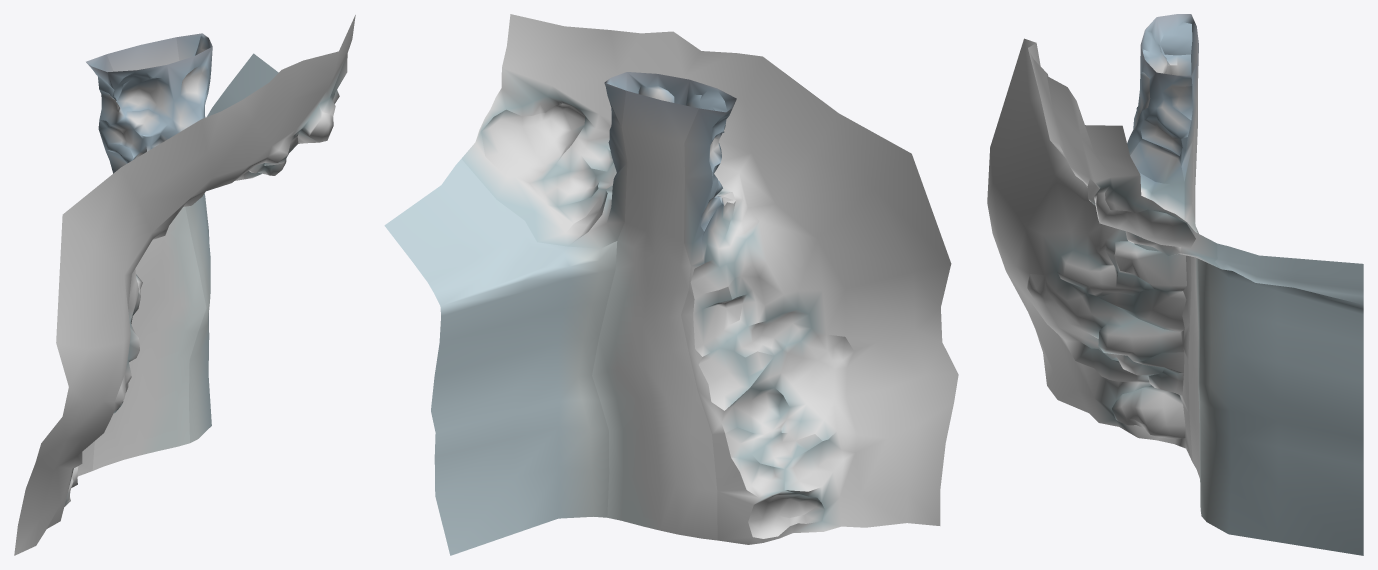
File: Transition_IceCaveA_lod_flip.glb
3 views of the same model, side by side, from view 1: azimuth 30°, elevation 25°; view 2: azimuth 150°, elevation 25°; view 3: azimuth 270°, elevation 25° (orthographic). The views are drawn at different scales.
Visible parts, largest first — view 1: MeshNode_0, MeshNode_1; view 2: MeshNode_0, MeshNode_1; view 3: MeshNode_0, MeshNode_1.
Part boxes in pixels (bbox=[...]): MeshNode_0: bbox=[14, 15, 355, 555]; MeshNode_1: bbox=[92, 37, 206, 470]; MeshNode_0: bbox=[384, 14, 958, 555]; MeshNode_1: bbox=[592, 90, 717, 540]; MeshNode_0: bbox=[987, 14, 1363, 555]; MeshNode_1: bbox=[1188, 29, 1201, 513].
Bounding box in the file's own units: 126 × 132 × 98.24.
